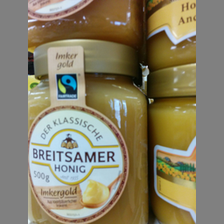honey: (29, 39, 151, 223)
